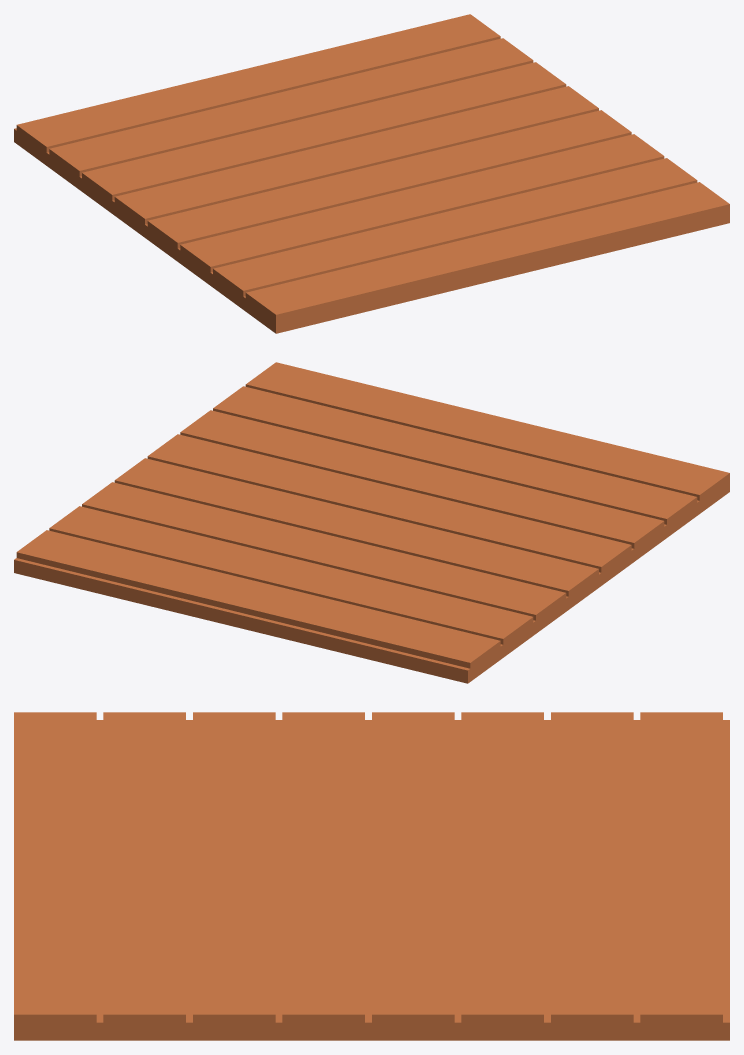
The model's file is cabinFloor.fbx.
3 renders of one model, top to bottom at view 1: azimuth 30°, elevation 25°; view 2: azimuth 150°, elevation 25°; view 3: azimuth 270°, elevation 25°, orthographic. The views are drawn at different scales.
Parts seen in each view (by area): view 1: cabinFloor; view 2: cabinFloor; view 3: cabinFloor.
Boxes of the visible parts, x1=… form: cabinFloor: x1=14, y1=14, x2=729, y2=333; cabinFloor: x1=14, y1=362, x2=729, y2=683; cabinFloor: x1=14, y1=712, x2=729, y2=1040.
Size of the model in its own units: 10 by 0.4 by 10.
